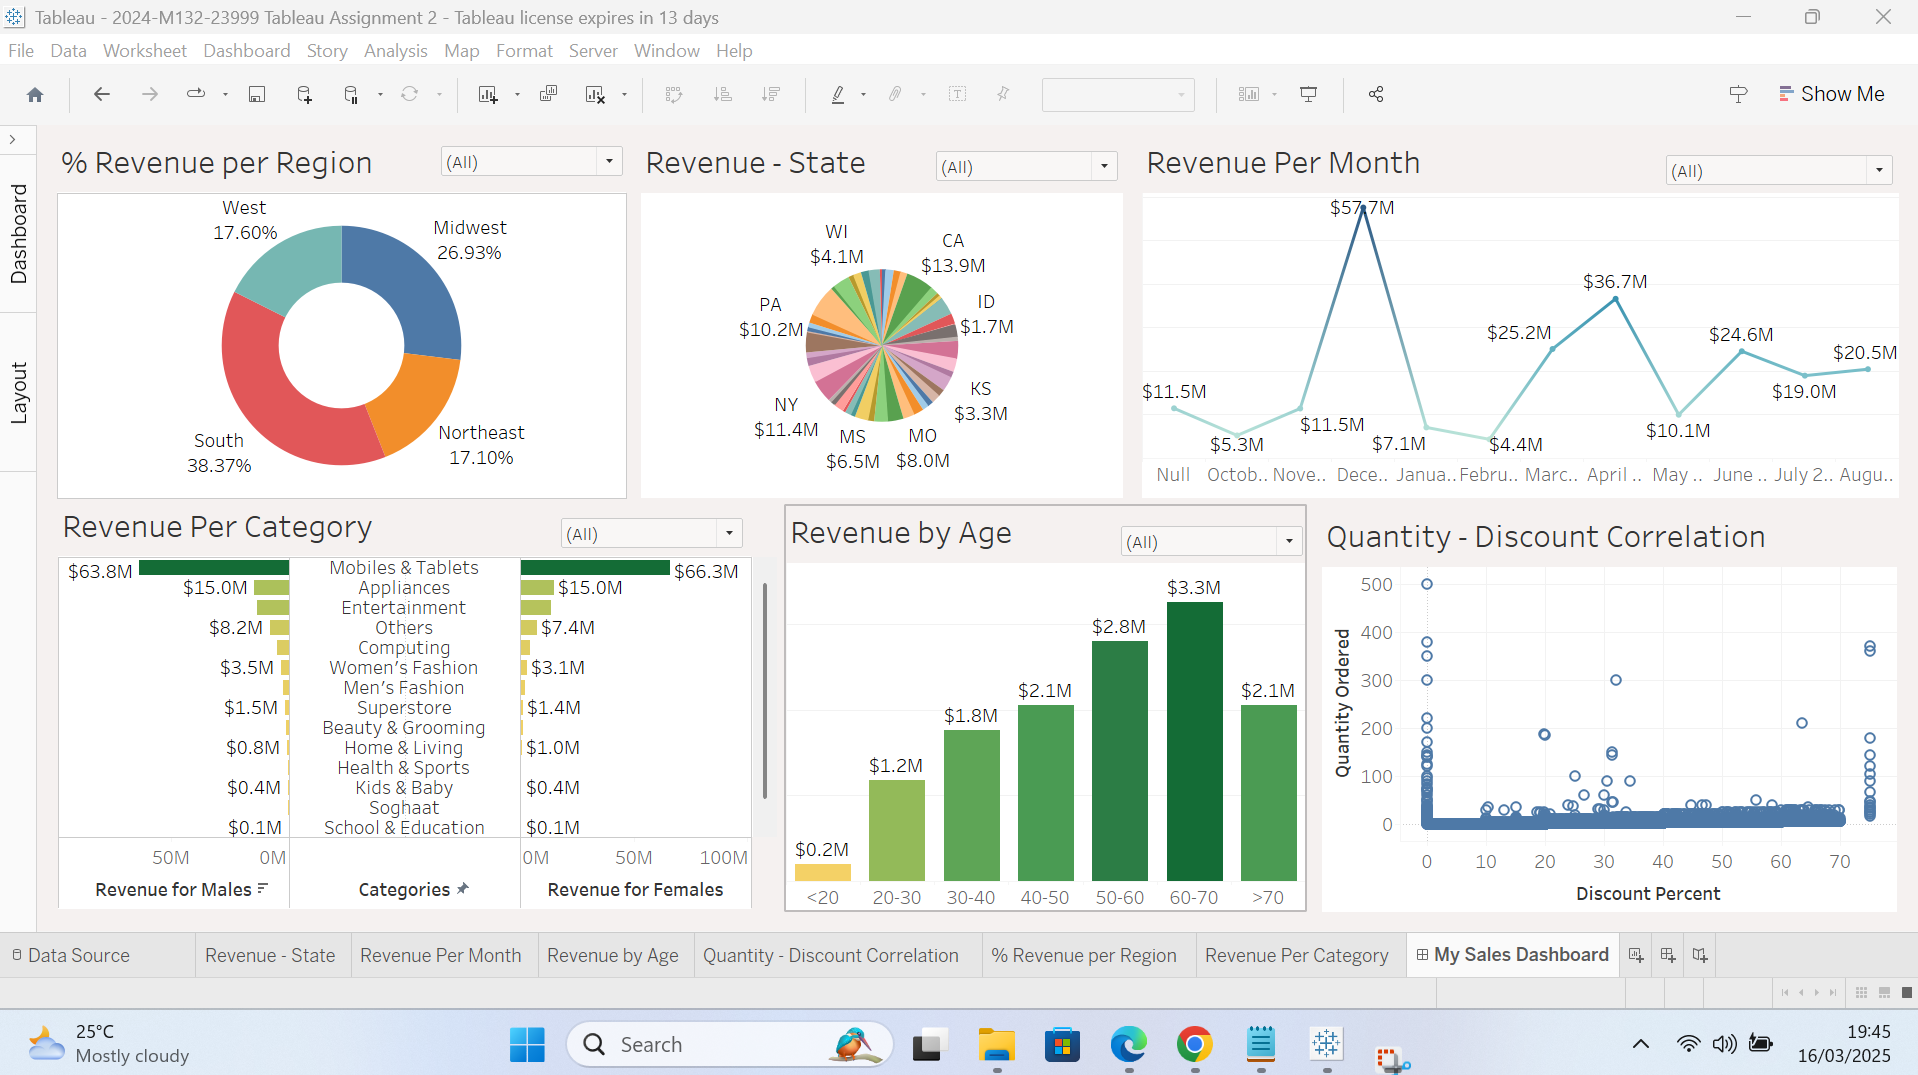

The dashboard page shown, as its layout file describes it:
{"tool":"tableau","page":{"name":"My Sales Dashboard","canvas":[1000,1000],"units":"permille","ordinal":0},"visuals":[{"type":"worksheet","title":"% Revenue per Region","mark":"Pie","rows":["Calculation_998954750056755203","Calculation_998954750056755203"],"box":[10.6,13.7,303,450.4]},{"type":"worksheet","title":"Revenue Per State","mark":"Pie","box":[321.1,13.7,256.2,449.1]},{"type":"worksheet","title":"Revenue Per Month","mark":"Automatic","rows":["total"],"cols":["month"],"box":[587.3,13.7,402.1,449.1]},{"type":"filter","title":"Revenue by Age","param":"[federated.17vzoqb0uy6kks19izl8n02ihrt0].[none:Age (bin):ok]","box":[576.5,452.9,99.4,83.1]},{"type":"filter","title":"Revenue Per Category","param":"[federated.17vzoqb0uy6kks19izl8n02ihrt0].[none:category:nk]","box":[294.4,457.8,99.9,75.7]},{"type":"worksheet","title":"Quantity Vs Discount Correlation","mark":"Automatic","rows":["qty_ordered"],"cols":["Discount_Percent"],"box":[682.8,470.2,305.5,503.7]},{"type":"worksheet","title":"Revenue by Age","mark":"Automatic","rows":["age"],"cols":["Age (bin)"],"box":[397.8,472.7,276.2,501.2]},{"type":"worksheet","title":"Revenue Per Category","mark":"Automatic","rows":["category"],"cols":["Calculation_998954750002372609","Calculation_998954750003204098","Calculation_998954750001659904"],"box":[11.2,473.9,382,498.8]}]}

Visuals, with their boxes on the dashboard's canvas, which has no fixed pixel size, in thousandths of its width and height (x1, y1, x2, y2). These are canvas units, not pixel positions in the 1918x1075 screenshot, which may show the page scaled, cropped or inside an application window:
"% Revenue per Region" worksheet (Pie marks): (11, 14, 314, 464)
"Revenue Per State" worksheet (Pie marks): (321, 14, 577, 463)
"Revenue Per Month" worksheet: (587, 14, 989, 463)
"Revenue by Age" filter: (576, 453, 676, 536)
"Revenue Per Category" filter: (294, 458, 394, 534)
"Quantity Vs Discount Correlation" worksheet: (683, 470, 988, 974)
"Revenue by Age" worksheet: (398, 473, 674, 974)
"Revenue Per Category" worksheet: (11, 474, 393, 973)
